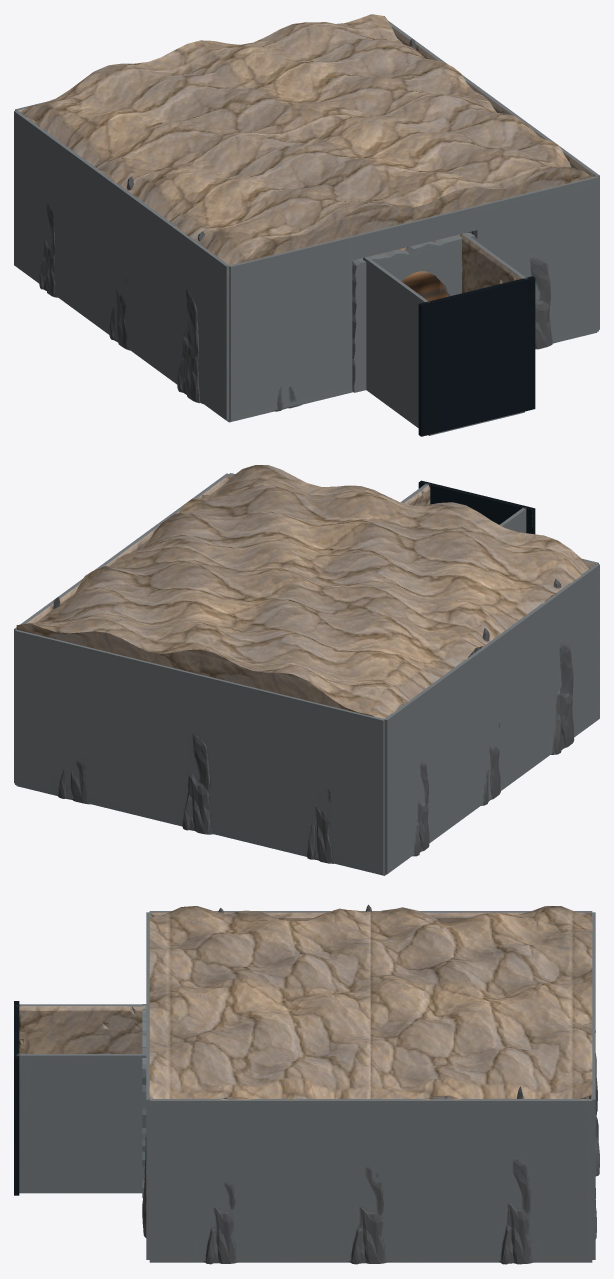
File: room.glb
3 views of the same model, one above another, from view 1: azimuth 30°, elevation 25°; view 2: azimuth 150°, elevation 25°; view 3: azimuth 270°, elevation 25° (orthographic). The views are drawn at different scales.
Visible parts, largest first — view 1: DREARY-ROOM; view 2: DREARY-ROOM; view 3: DREARY-ROOM.
Part boxes in pixels (bbox=[...]): DREARY-ROOM: bbox=[14, 14, 599, 436]; DREARY-ROOM: bbox=[14, 465, 599, 875]; DREARY-ROOM: bbox=[14, 904, 599, 1264].
Size of the model in its own units: 10.34 by 4.79 by 13.23.
Materials: 1 (1 with a texture image).
